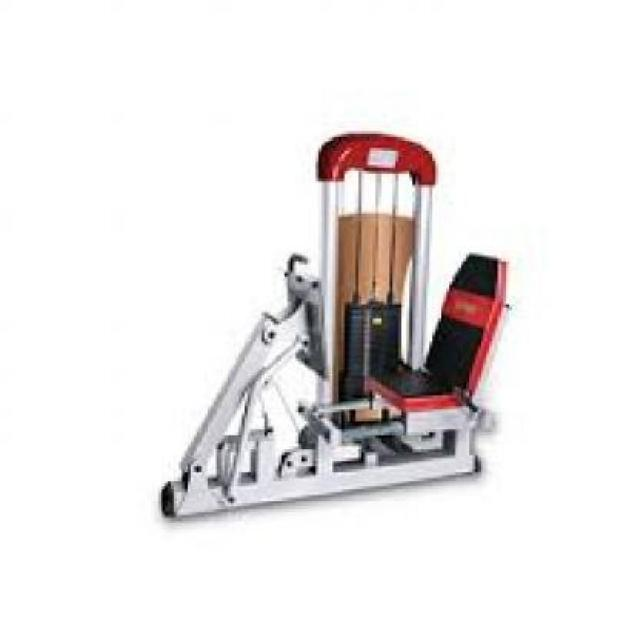leg press: (120, 110, 532, 532)
